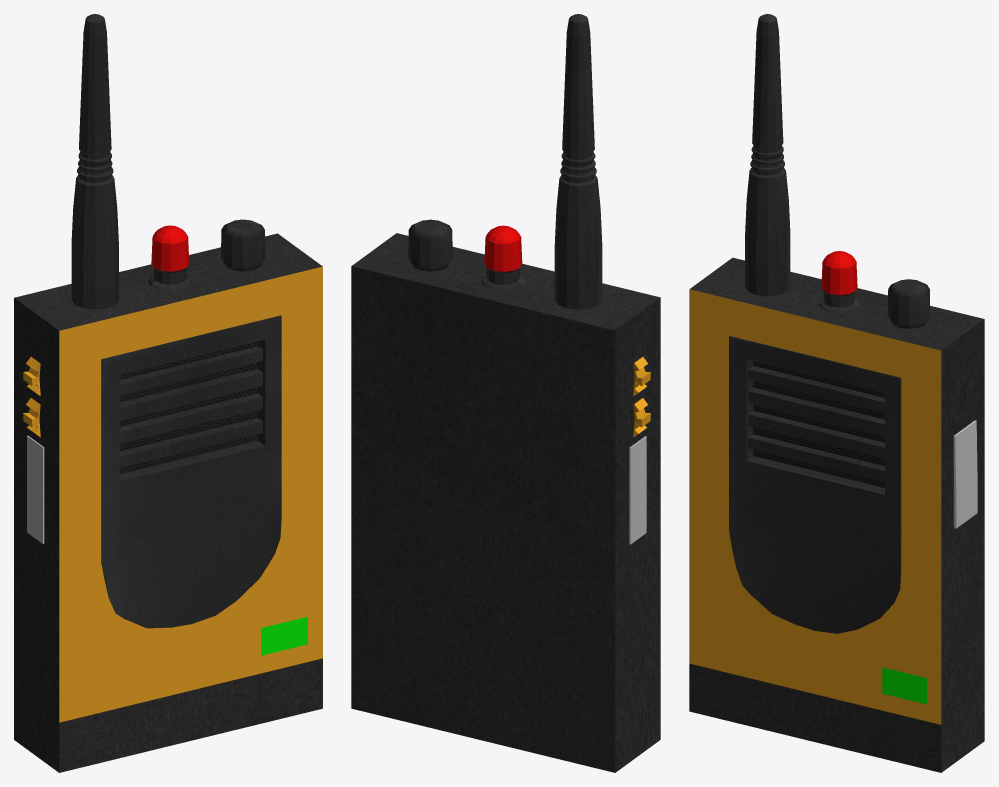
Rendered from Walkie Talkie.fbx.
3 renders of one model, left to right at view 1: azimuth 30°, elevation 25°; view 2: azimuth 150°, elevation 25°; view 3: azimuth 330°, elevation 25°, orthographic. The views are drawn at different scales.
Visible parts, largest first — view 1: WAlki_3:polySurface39.001; view 2: WAlki_3:polySurface39.001; view 3: WAlki_3:polySurface39.001.
Boxes of the visible parts, x1,y1,x2,y2 form: WAlki_3:polySurface39.001: (14, 14, 322, 772); WAlki_3:polySurface39.001: (351, 14, 660, 772); WAlki_3:polySurface39.001: (689, 14, 984, 772).
Bounding box in the file's own units: 5.63 × 14.18 × 1.62.
